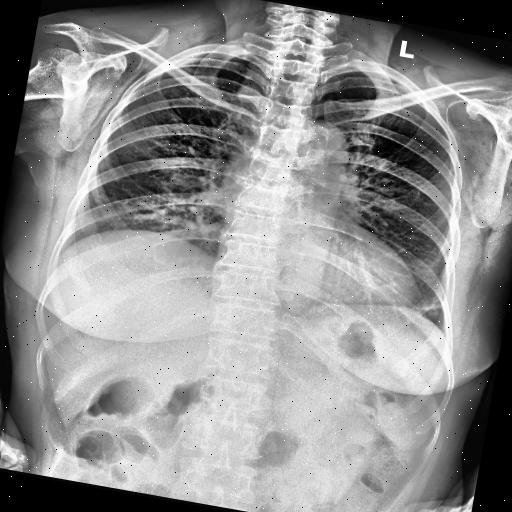0- Aortic enlargement: (280, 110, 352, 174), (286, 116, 354, 180), (286, 114, 352, 177)
3- Cardiomegaly: (209, 227, 428, 308)
7- Lung Opacity: (237, 58, 272, 108)
